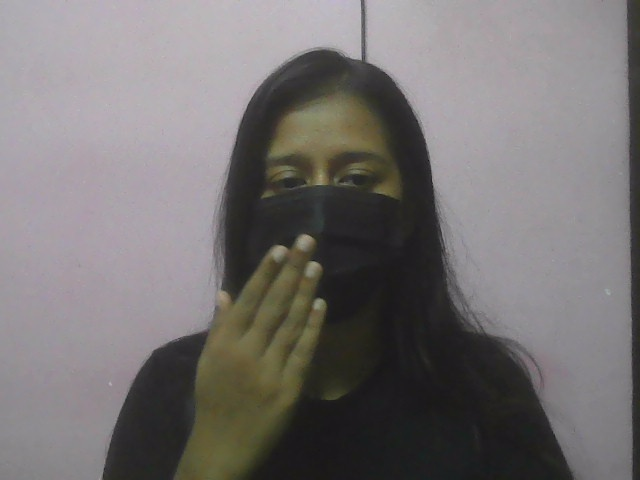Thank you: (174, 226, 343, 472)
